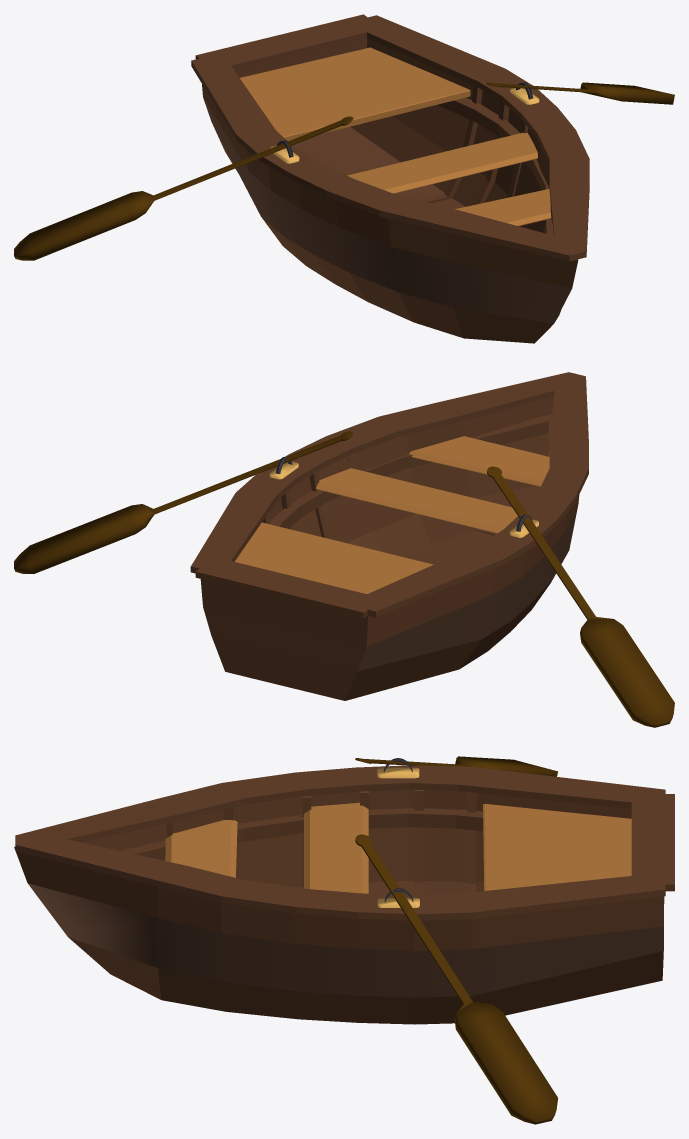
The model's file is BoatGDW.fbx.
3 views of the same model, one above another, from view 1: azimuth 30°, elevation 25°; view 2: azimuth 150°, elevation 25°; view 3: azimuth 270°, elevation 25° (orthographic). The views are drawn at different scales.
Visible parts, largest first — view 1: BoatTop, OutsideBoat.002, Boat Shape, Backpart, OutsideBoat.001, Handles, OutsideBoat.003, Cube, OutsideBoat, Cube.001, InnerPart, Innersticks; view 2: BoatTop, Boat Shape, Boatback, Handles, Backpart, OutsideBoat.002, Cube, OutsideBoat.001, OutsideBoat.003, Cube.001, InnerPart, Innersticks; view 3: BoatTop, OutsideBoat.002, OutsideBoat.001, Boat Shape, OutsideBoat.003, Backpart, Handles, Cube, OutsideBoat, InnerPart, Cube.001, Innersticks.
Part boxes in pixels (left/top/right/bottom): BoatTop: left=191, top=14, right=589, bottom=261; OutsideBoat.002: left=203, top=98, right=571, bottom=323; Boat Shape: left=235, top=38, right=552, bottom=233; Backpart: left=240, top=47, right=470, bottom=141; OutsideBoat.001: left=202, top=84, right=578, bottom=288; Handles: left=14, top=82, right=674, bottom=260; OutsideBoat.003: left=212, top=123, right=560, bottom=343; Cube: left=347, top=132, right=537, bottom=193; OutsideBoat: left=236, top=39, right=578, bottom=259; Cube.001: left=455, top=189, right=551, bottom=226; InnerPart: left=437, top=97, right=553, bottom=235; Innersticks: left=419, top=85, right=539, bottom=204; BoatTop: left=190, top=372, right=588, bottom=618; Boat Shape: left=262, top=397, right=553, bottom=564; Boatback: left=200, top=579, right=368, bottom=700; Handles: left=14, top=431, right=674, bottom=727; Backpart: left=234, top=522, right=433, bottom=593; OutsideBoat.002: left=358, top=505, right=578, bottom=670; Cube: left=316, top=468, right=517, bottom=533; OutsideBoat.001: left=366, top=495, right=579, bottom=646; OutsideBoat.003: left=345, top=574, right=555, bottom=700; Cube.001: left=409, top=436, right=549, bottom=486; InnerPart: left=270, top=414, right=552, bottom=528; Innersticks: left=262, top=456, right=496, bottom=552; BoatTop: left=15, top=765, right=674, bottom=920; OutsideBoat.002: left=28, top=883, right=663, bottom=997; OutsideBoat.001: left=14, top=847, right=664, bottom=950; Boat Shape: left=82, top=789, right=631, bottom=895; OutsideBoat.003: left=68, top=937, right=663, bottom=1024; Backpart: left=483, top=804, right=631, bottom=890; Handles: left=355, top=756, right=557, bottom=1124; Cube: left=304, top=802, right=368, bottom=893; OutsideBoat: left=89, top=789, right=631, bottom=894; InnerPart: left=121, top=808, right=483, bottom=860; Cube.001: left=165, top=820, right=237, bottom=877; Innersticks: left=166, top=789, right=476, bottom=895.
Size of the model in its own units: 886 by 207 by 698.
